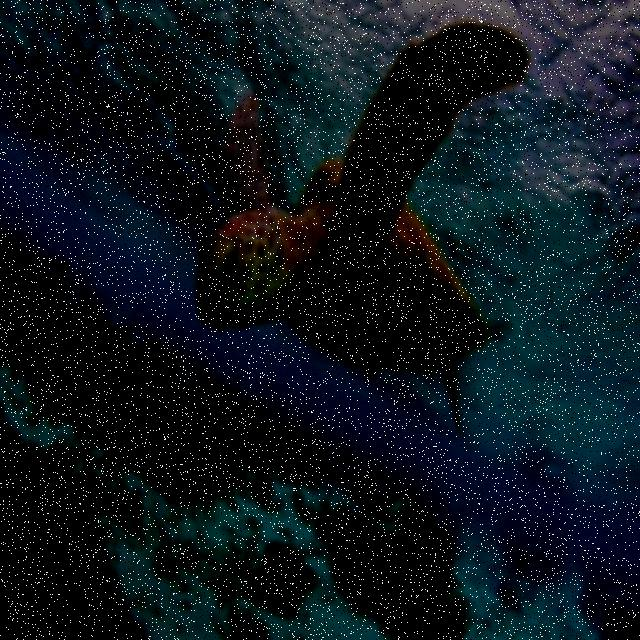tortoise: (175, 16, 535, 438)
